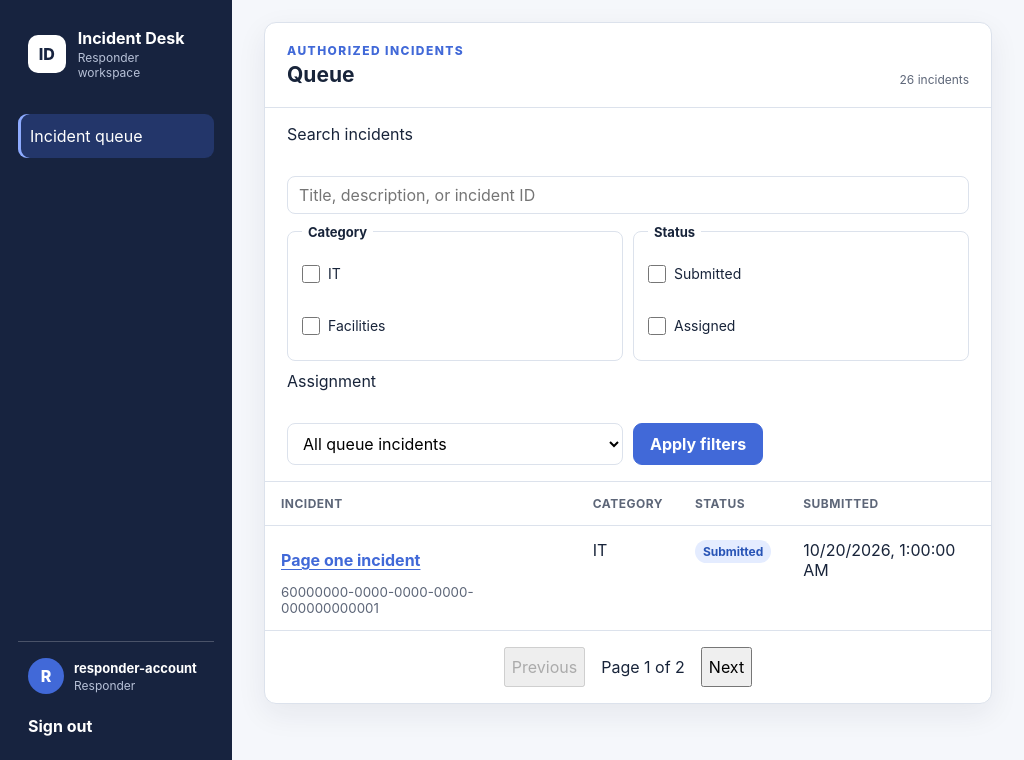
Responder incident queue › preserves the queue page when returning from incident details
(page scrolled)
Check: the button "Page one incident" is shown, box top-left (281, 540), bottom-right (420, 580)
Click the button "Next": {"x": 726, "y": 667} top-left (701, 647), bottom-right (752, 687)
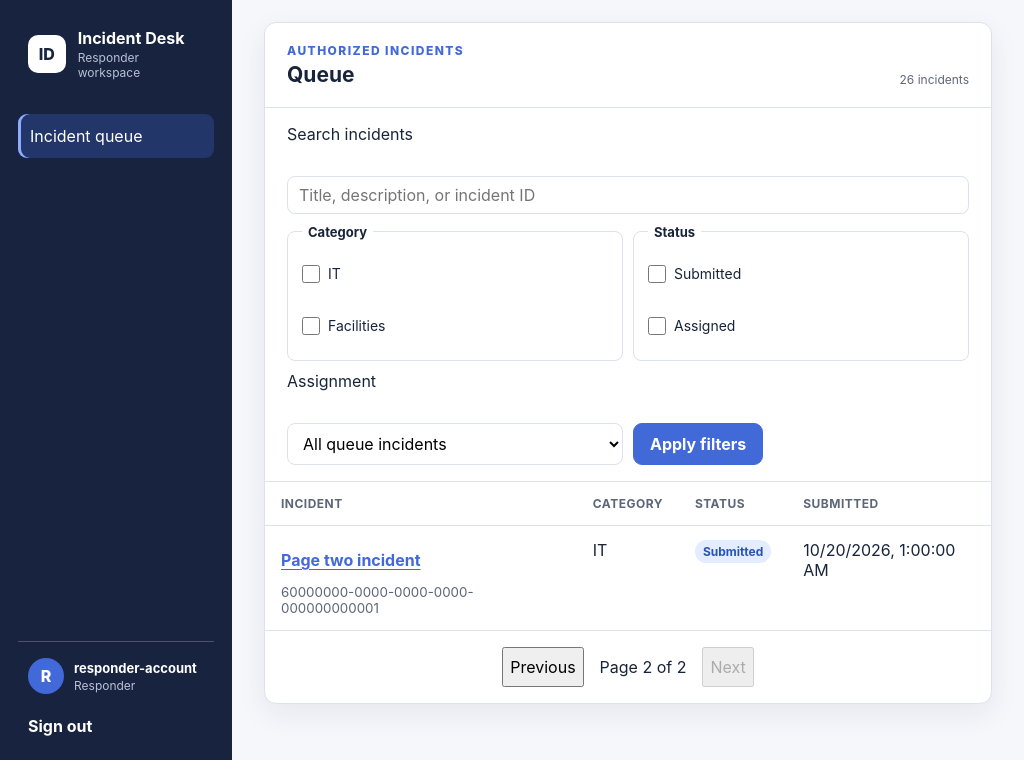
Click the button with aria-label "View details for Page two incident": {"x": 351, "y": 560} top-left (281, 540), bottom-right (420, 580)
(page scrolled)
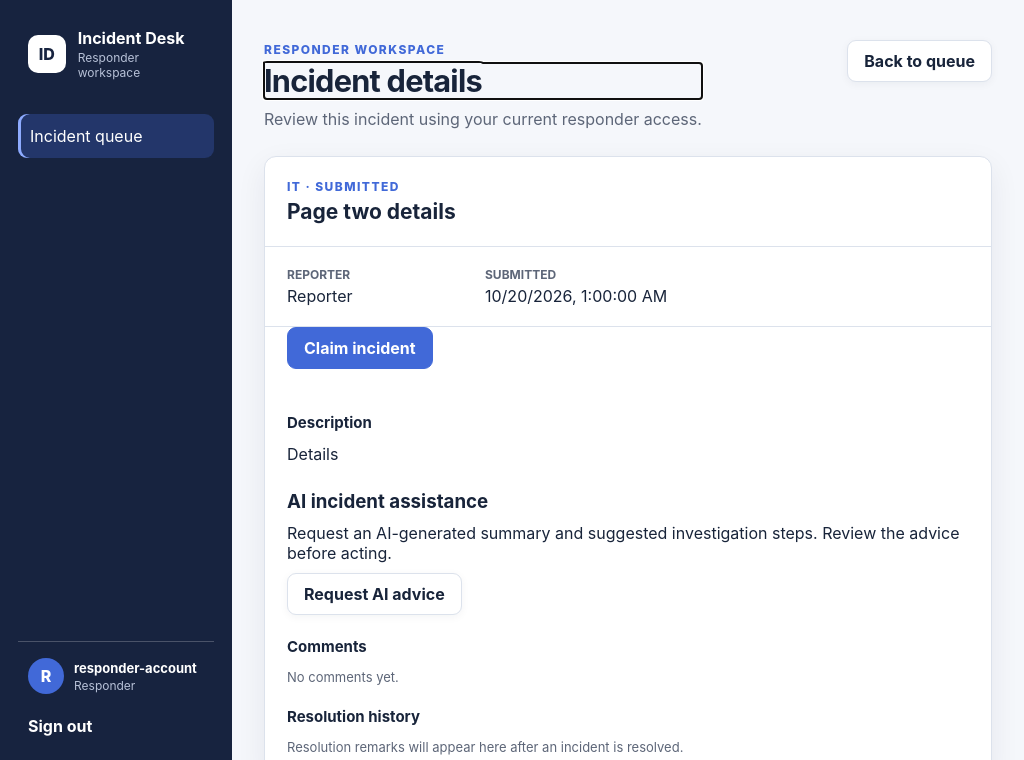
Check: the heading "Page two details" is shown, box top-left (287, 199), bottom-right (456, 224)
Click the button "Back to queue": {"x": 920, "y": 61} top-left (847, 40), bottom-right (992, 82)
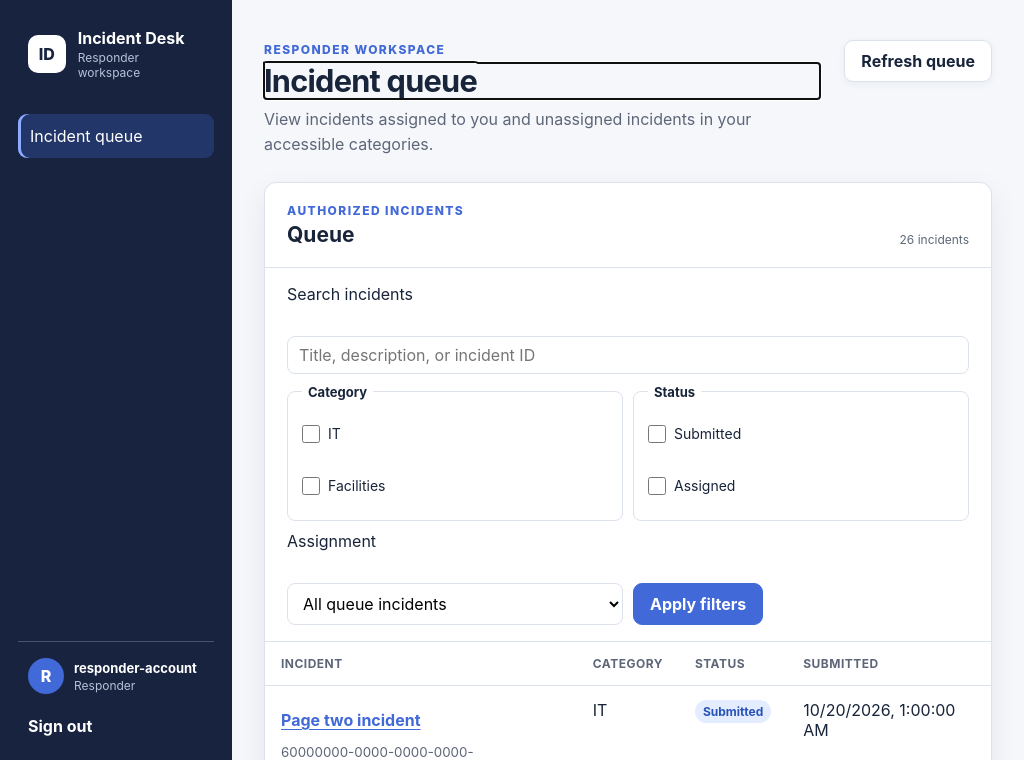
Check: the button "Page two incident" is shown, box top-left (281, 700), bottom-right (420, 740)
